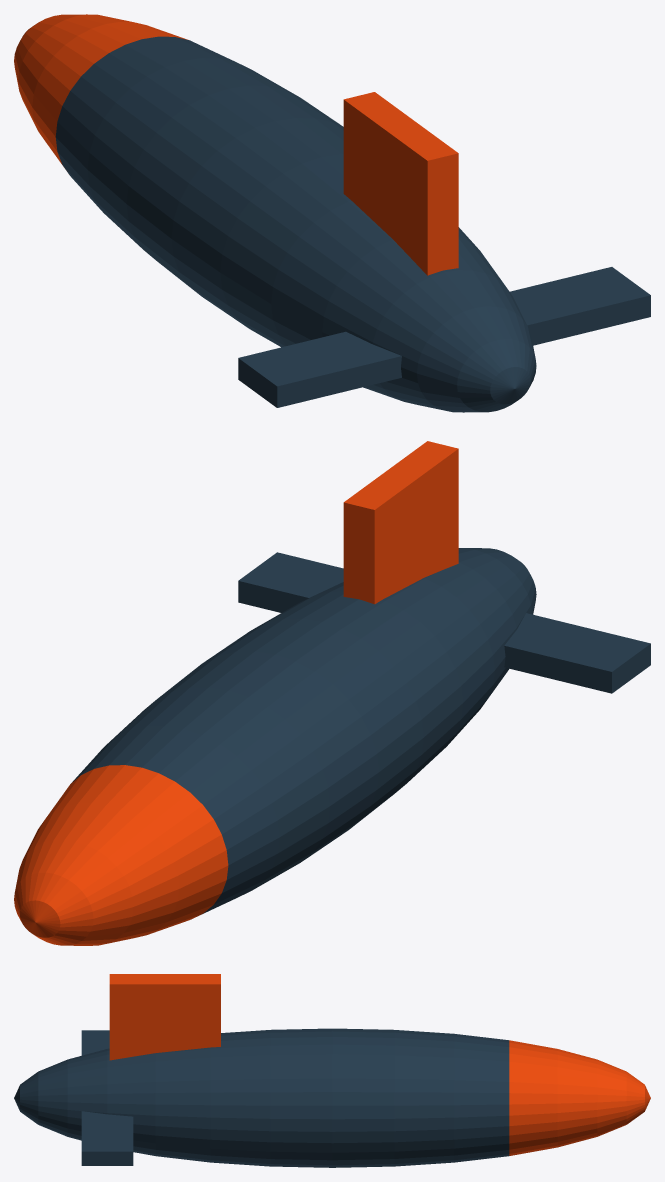
Rendered from test-submersible.obj.
3 renders of one model, top to bottom at view 1: azimuth 30°, elevation 25°; view 2: azimuth 150°, elevation 25°; view 3: azimuth 270°, elevation 25°, orthographic. The views are drawn at different scales.
Size of the model in its own units: 3.6 by 2.5 by 8.
